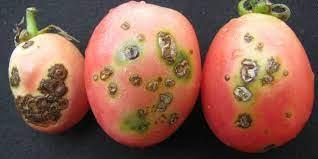tomato bacterial spot: (85, 2, 203, 150), (200, 14, 316, 156), (9, 10, 91, 137)
